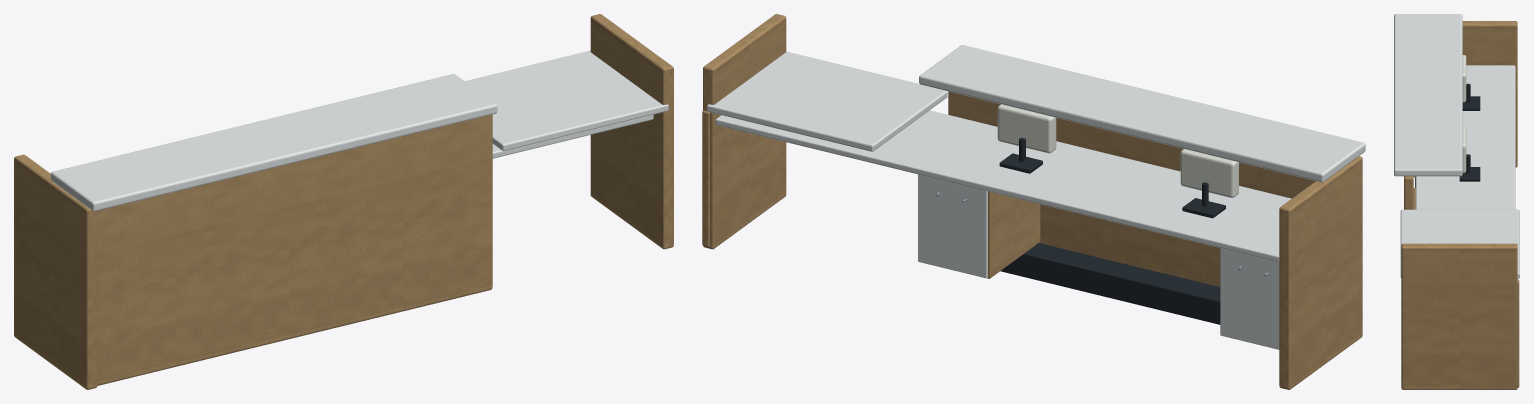
The model's file is nurse_station.glb.
3 views of the same model, side by side, from view 1: azimuth 30°, elevation 25°; view 2: azimuth 150°, elevation 25°; view 3: azimuth 270°, elevation 25° (orthographic). The views are drawn at different scales.
Parts seen in each view (by area): view 1: Cabinet back, Accessible worktop; view 2: Accessible worktop, Cabinet back, Grounded narrow recessed toe kick, Monitor housing; view 3: Accessible worktop, Cabinet back, Grounded narrow recessed toe kick, Monitor housing.
Part boxes in pixels (box(x1,y1,x2,y2)): Cabinet back: box(14, 14, 673, 389); Accessible worktop: box(50, 50, 668, 211); Accessible worktop: box(707, 45, 1365, 349); Cabinet back: box(702, 14, 1362, 389); Grounded narrow recessed toe kick: box(999, 137, 1225, 324); Monitor housing: box(997, 104, 1238, 197); Accessible worktop: box(1394, 14, 1519, 278); Cabinet back: box(1401, 21, 1519, 389); Grounded narrow recessed toe kick: box(1415, 83, 1480, 187); Monitor housing: box(1462, 55, 1466, 172).
Size of the model in its own units: 3.6 by 1.12 by 0.8449.
7 materials, 7 textured.
